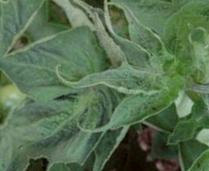Tomato leaf mosaic virus: (0, 3, 126, 141), (55, 24, 169, 138), (80, 62, 187, 159), (85, 0, 203, 80)
